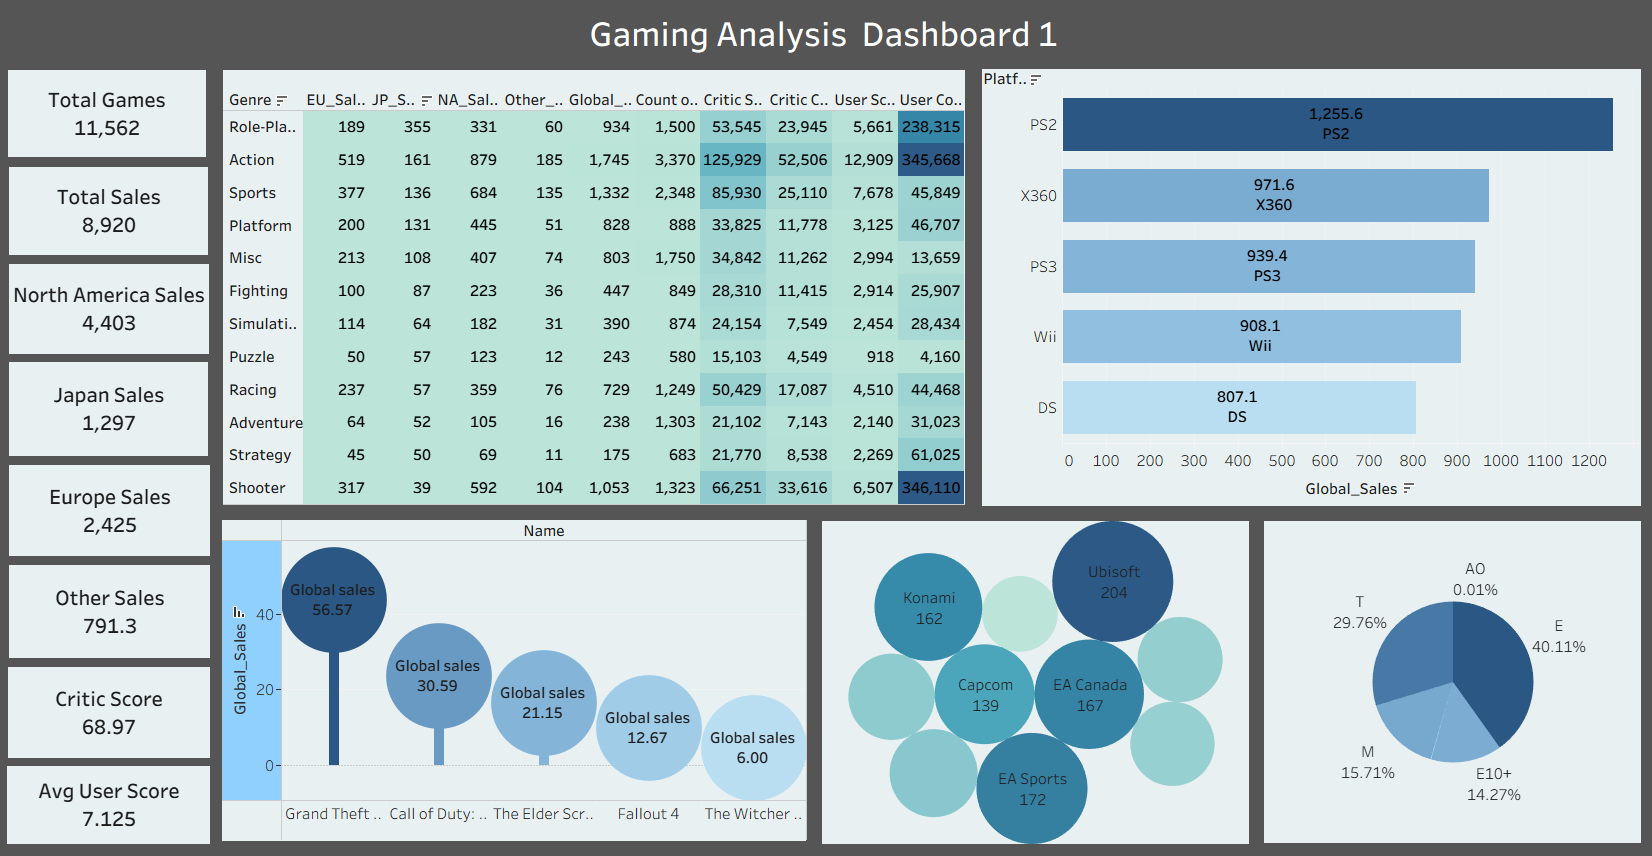

The dashboard page shown, as its layout file describes it:
{"tool":"tableau","page":{"name":"Dashboard 1","canvas":[1000,1000],"units":"permille","ordinal":0},"visuals":[{"type":"title","box":[4.8,9.3,990.3,58.1]},{"type":"worksheet","title":"Top 5 platform vs sales","mark":"Automatic","rows":["Platform"],"cols":["Global_Sales"],"box":[595.6,81.3,397.7,507.6]},{"type":"worksheet","title":"Total games","mark":"Automatic","box":[7.6,82.5,119.5,101]},{"type":"worksheet","title":"Genre vs sales ","mark":"Square","rows":["Genre"],"box":[137.6,82.5,447.8,505.2]},{"type":"worksheet","title":"Total sales","mark":"Automatic","box":[8.2,195.1,120.1,102.2]},{"type":"worksheet","title":"NA sales","mark":"Automatic","box":[8.2,307.8,120.7,104.5]},{"type":"worksheet","title":"Japan sales","mark":"Automatic","box":[8.2,421.6,120.1,109.2]},{"type":"worksheet","title":"Europe sales","mark":"Automatic","box":[8.2,541.2,121.3,105.7]},{"type":"worksheet","title":"Top 5 games by global sales","mark":"Bar","rows":["Global_Sales","Global_Sales"],"cols":["Name"],"box":[137,605.1,353.1,372.8]},{"type":"worksheet","title":"no games by developed","mark":"Circle","box":[499.1,606.3,257.7,375.2]},{"type":"worksheet","title":"number of games per age category '","mark":"Pie","box":[765.7,606.3,227.9,374]},{"type":"worksheet","title":"Other sales","mark":"Automatic","box":[8.2,657.4,121.3,108]},{"type":"worksheet","title":"Avg critic score","mark":"Automatic","box":[7.6,775.8,121.9,105.7]},{"type":"worksheet","title":"avg user scoe","mark":"Automatic","box":[7,890.8,122.4,90.6]}]}

Visuals, with their boxes on the dashboard's canvas, which has no fixed pixel size, in thousandths of its width and height (x1, y1, x2, y2). These are canvas units, not pixel positions in the 1652x856 screenshot, which may show the page scaled, cropped or inside an application window:
title: (5, 9, 995, 67)
"Top 5 platform vs sales" worksheet: (596, 81, 993, 589)
"Total games" worksheet: (8, 82, 127, 184)
"Genre vs sales " worksheet (Square marks): (138, 82, 585, 588)
"Total sales" worksheet: (8, 195, 128, 297)
"NA sales" worksheet: (8, 308, 129, 412)
"Japan sales" worksheet: (8, 422, 128, 531)
"Europe sales" worksheet: (8, 541, 130, 647)
"Top 5 games by global sales" worksheet (Bar marks): (137, 605, 490, 978)
"no games by developed" worksheet (Circle marks): (499, 606, 757, 982)
"number of games per age category '" worksheet (Pie marks): (766, 606, 994, 980)
"Other sales" worksheet: (8, 657, 130, 765)
"Avg critic score" worksheet: (8, 776, 130, 882)
"avg user scoe" worksheet: (7, 891, 129, 981)
